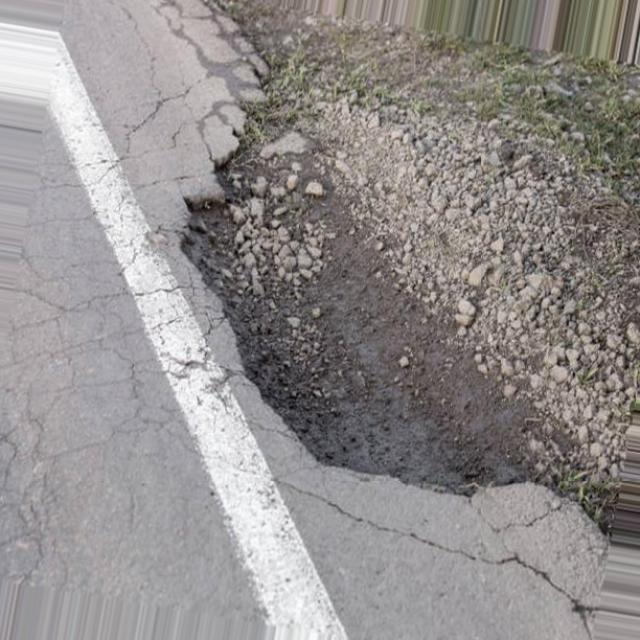Pinggir: (182, 85, 614, 504)
